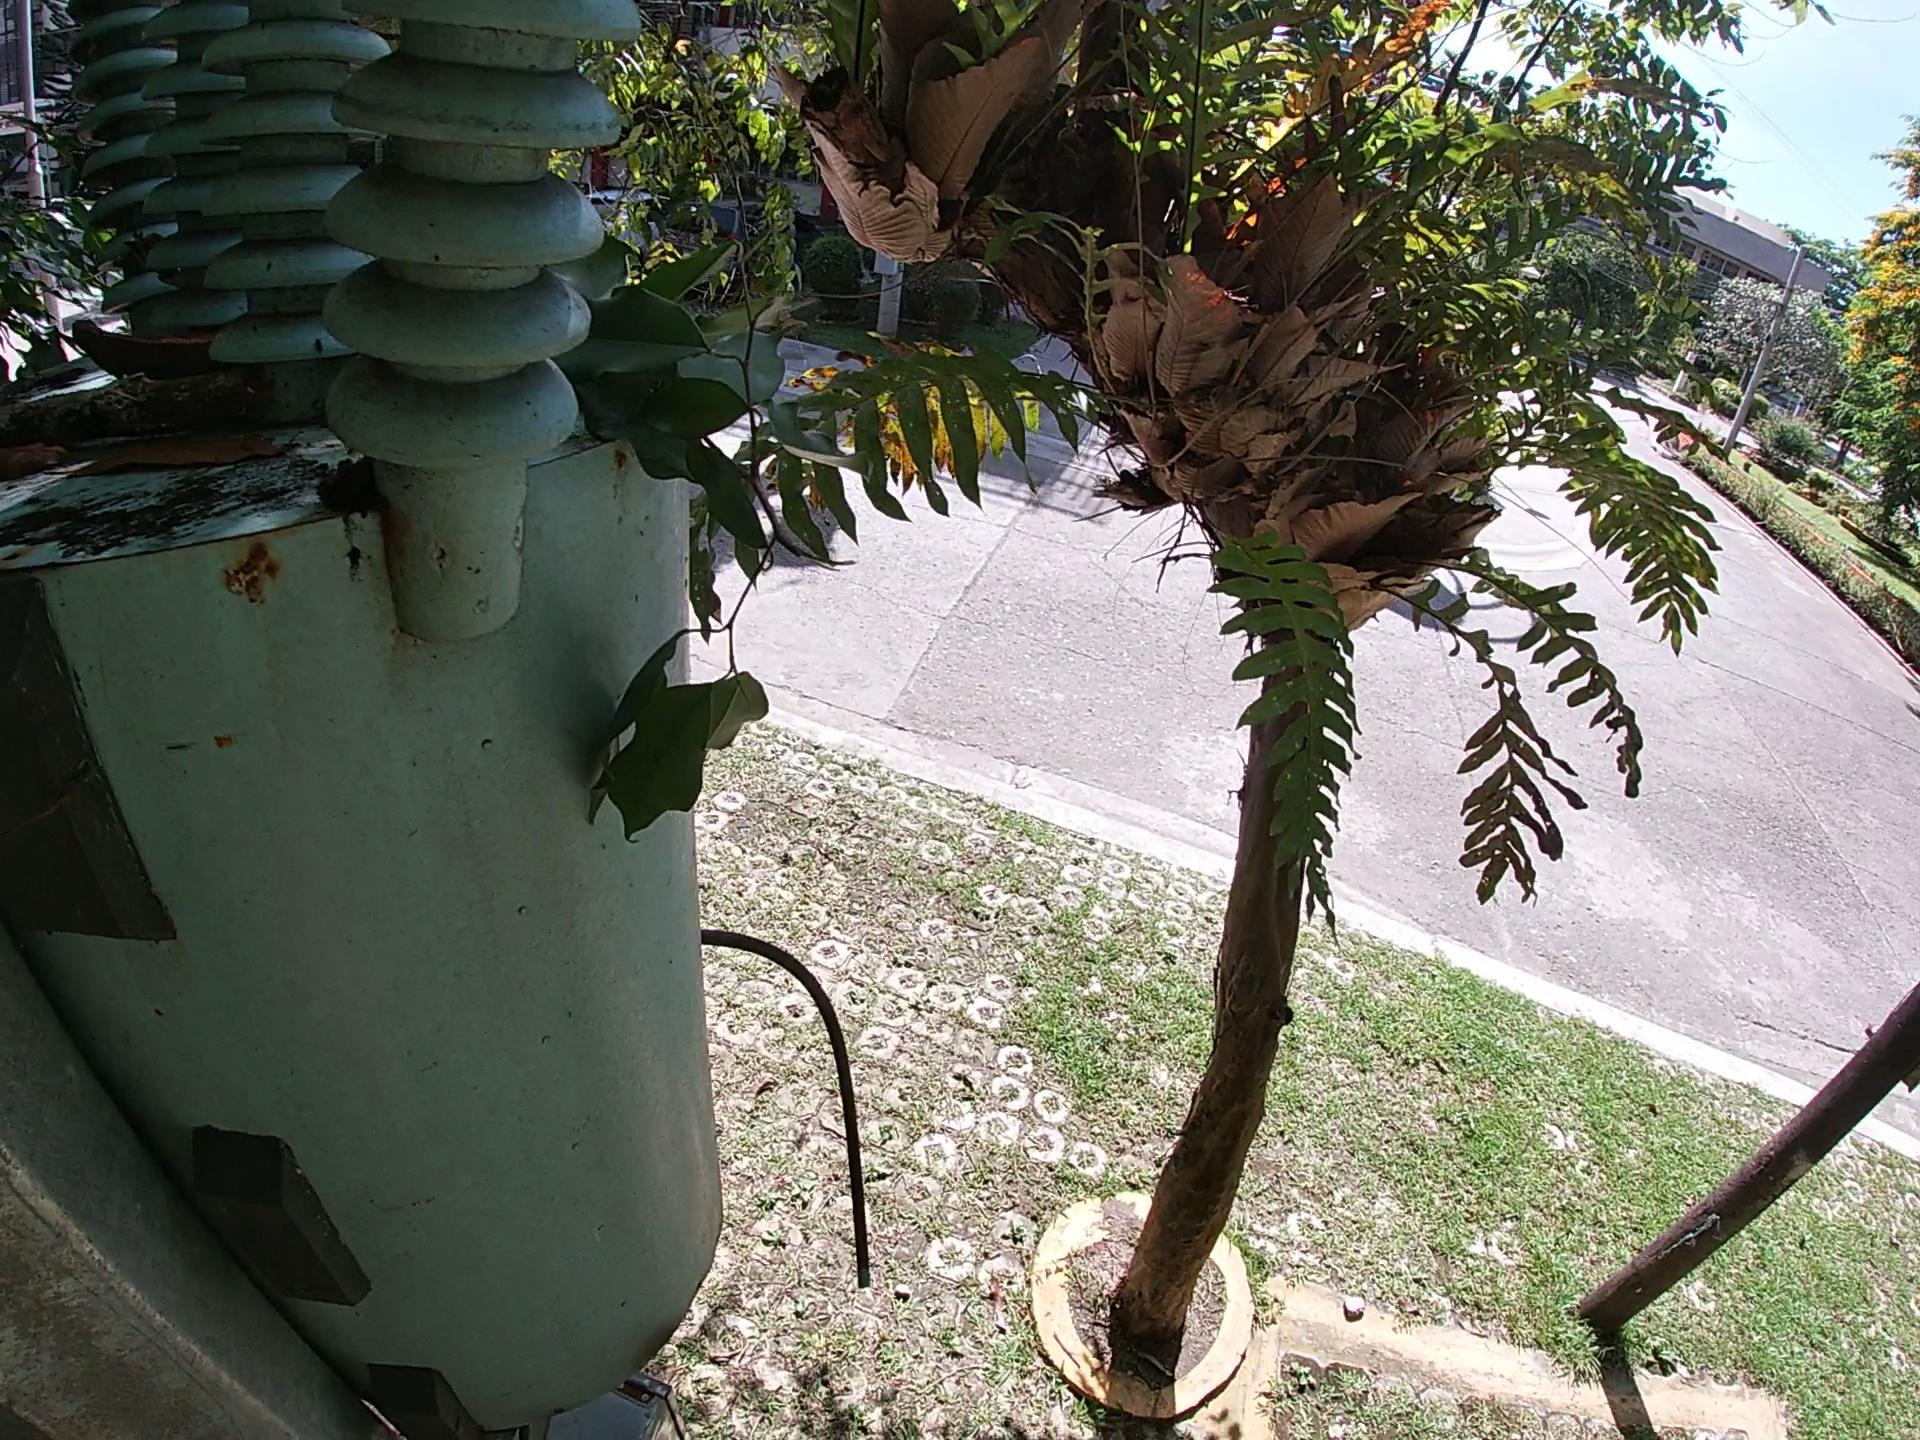branch with leaves: (553, 201, 866, 874)
leaf: (53, 439, 317, 466)
mahogany fruit: (51, 315, 249, 375)
tree branch: (2, 390, 225, 413)
